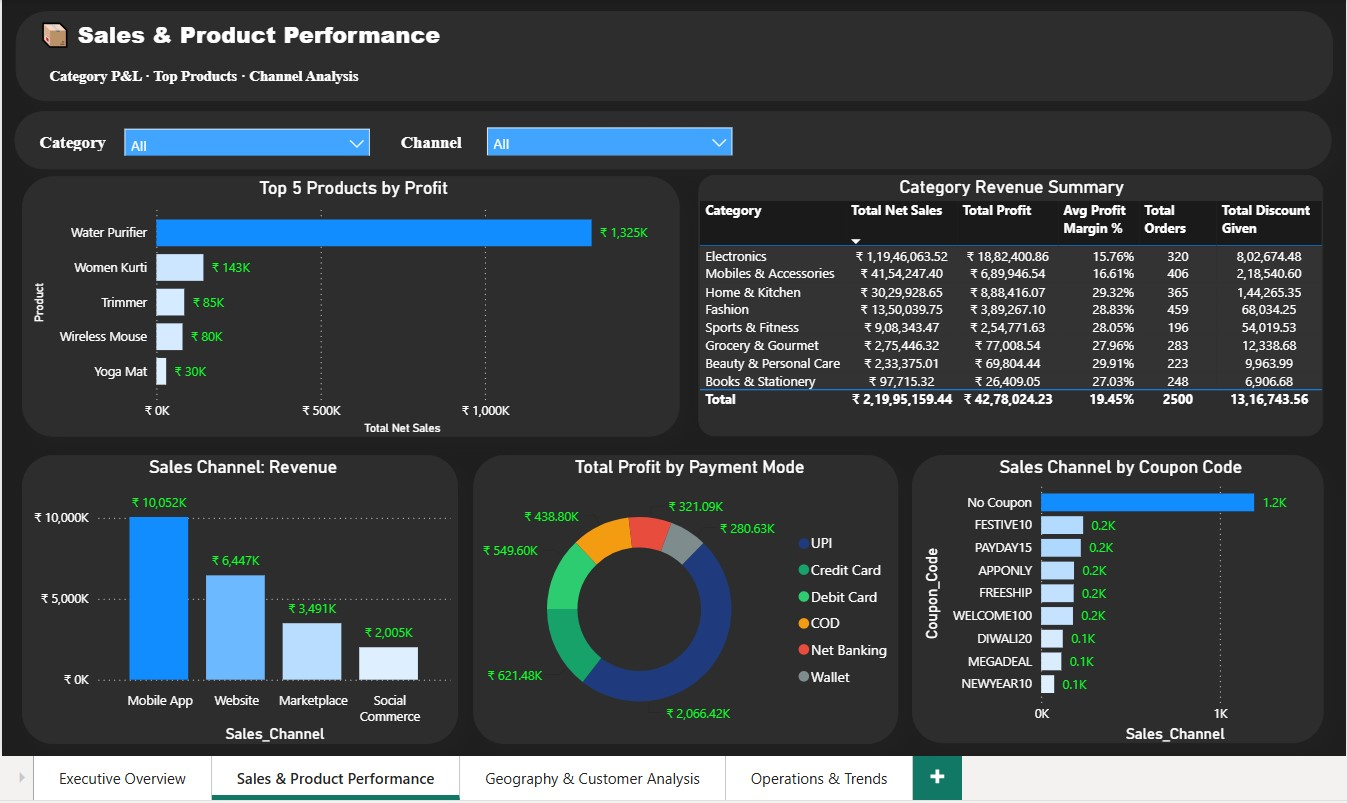

The dashboard page shown, as its layout file describes it:
{"tool":"powerbi","page":{"name":"Sales & Product Performance","canvas":[1280,720],"ordinal":1},"visuals":[{"type":"shape","box":[13.4,11,1254.6,85.3],"z":0},{"type":"shape","box":[11.3,105.9,1254.6,54.9],"z":1000},{"type":"textbox","box":[36.3,18.2,390.9,35.1],"z":2000},{"type":"textbox","box":[44.8,62.9,311,18.2],"z":3000},{"type":"textbox","box":[35.6,125.7,76.7,20],"z":4000},{"type":"clusteredBarChart","title":"Top 5 Products by Profit","fields":{"Y":["Core KPI Measures.Total Net Sales"],"Category":["ecommerce_sales_clean_csv.product"]},"box":[19,167.9,626.2,247.6],"z":5000},{"type":"tableEx","title":"Category Revenue Summary","fields":{"Values":["ecommerce_sales_clean_csv.category","Core KPI Measures.Total Net Sales","Core KPI Measures.Total Profit","Core KPI Measures.Avg Profit Margin %","Core KPI Measures.Total Orders","Core KPI Measures.Total Discount Given"]},"box":[663.5,166.6,595.6,248.9],"z":6000},{"type":"slicer","fields":{"Values":["ecommerce_sales_clean_csv.category"]},"box":[112.2,117.8,243.3,30],"z":7000},{"type":"textbox","box":[380.1,126.2,76.2,20.6],"z":8000},{"type":"slicer","fields":{"Values":["ecommerce_sales_clean_csv.sales_channel"]},"box":[456.7,116.7,243.3,31.1],"z":9000},{"type":"columnChart","title":"Sales Channel: Revenue","fields":{"Category":["ecommerce_sales_clean_csv.sales_channel"],"Y":["Core KPI Measures.Total Net Sales"]},"box":[19,433.3,415.5,275],"z":10000},{"type":"donutChart","title":"Total Profit by Payment Mode","fields":{"Category":["ecommerce_sales_clean_csv.payment_mode"],"Y":["Core KPI Measures.Total Profit"]},"box":[449,433.3,404.8,275],"z":11000},{"type":"barChart","title":"Sales Channel by Coupon Code","fields":{"Category":["ecommerce_sales_clean_csv.coupon_code"],"Y":["CountNonNull(ecommerce_sales_clean_csv.sales_channel)"]},"box":[866.4,433.2,392.1,274.7],"z":12000}]}

Visuals, with their boxes on the page's 1280x720 design canvas (x1, y1, x2, y2). These are canvas units, not pixel positions in the 1347x803 screenshot, which may show the page scaled, cropped or inside an application window:
shape: {"x1": 13, "y1": 11, "x2": 1268, "y2": 96}
shape: {"x1": 11, "y1": 106, "x2": 1266, "y2": 161}
textbox: {"x1": 36, "y1": 18, "x2": 427, "y2": 53}
textbox: {"x1": 45, "y1": 63, "x2": 356, "y2": 81}
textbox: {"x1": 36, "y1": 126, "x2": 112, "y2": 146}
"Top 5 Products by Profit" clusteredBarChart: {"x1": 19, "y1": 168, "x2": 645, "y2": 416}
"Category Revenue Summary" tableEx: {"x1": 664, "y1": 167, "x2": 1259, "y2": 416}
slicer - ecommerce_sales_clean_csv.category: {"x1": 112, "y1": 118, "x2": 356, "y2": 148}
textbox: {"x1": 380, "y1": 126, "x2": 456, "y2": 147}
slicer - ecommerce_sales_clean_csv.sales_channel: {"x1": 457, "y1": 117, "x2": 700, "y2": 148}
"Sales Channel: Revenue" columnChart: {"x1": 19, "y1": 433, "x2": 434, "y2": 708}
"Total Profit by Payment Mode" donutChart: {"x1": 449, "y1": 433, "x2": 854, "y2": 708}
"Sales Channel by Coupon Code" barChart: {"x1": 866, "y1": 433, "x2": 1258, "y2": 708}
